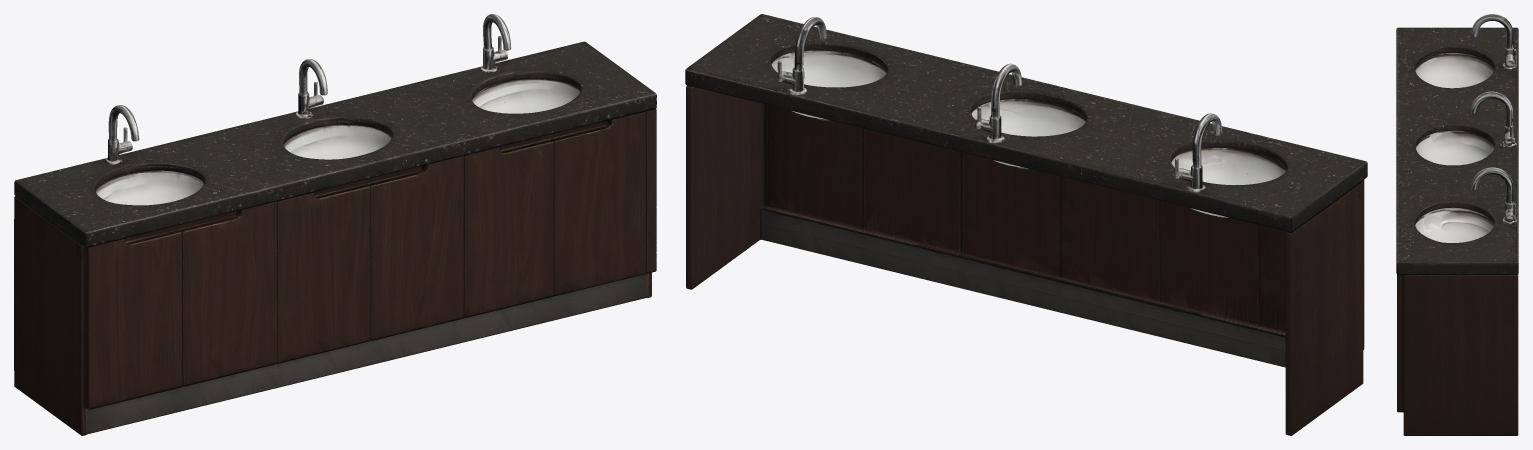
File: bathroom_vanity.glb
3 views of the same model, side by side, from view 1: azimuth 30°, elevation 25°; view 2: azimuth 150°, elevation 25°; view 3: azimuth 270°, elevation 25° (orthographic). The views are drawn at different scales.
Visible parts, largest first — view 1: mesh_node; view 2: mesh_node; view 3: mesh_node.
Part boxes in pixels (box(x1,y1,x2,y2)): mesh_node: box(14, 14, 656, 435); mesh_node: box(685, 14, 1367, 435); mesh_node: box(1396, 14, 1518, 435).
Size of the model in its own units: 1.9 by 0.854 by 0.4181.
1 material, 1 textured.
